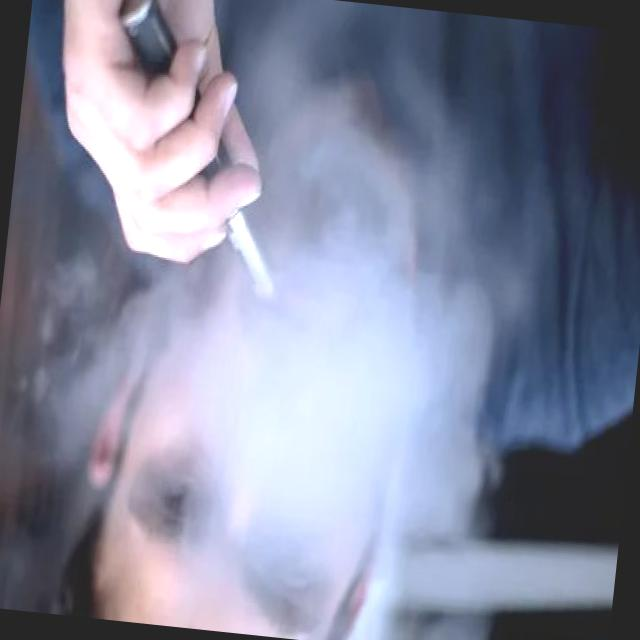cigarette: (88, 0, 316, 312)
